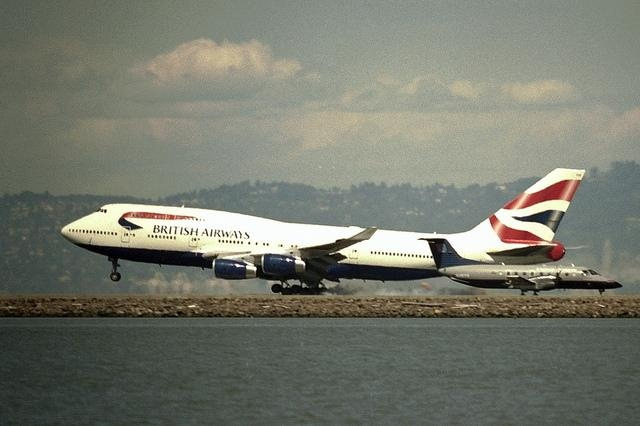airplane: (55, 164, 620, 301)
